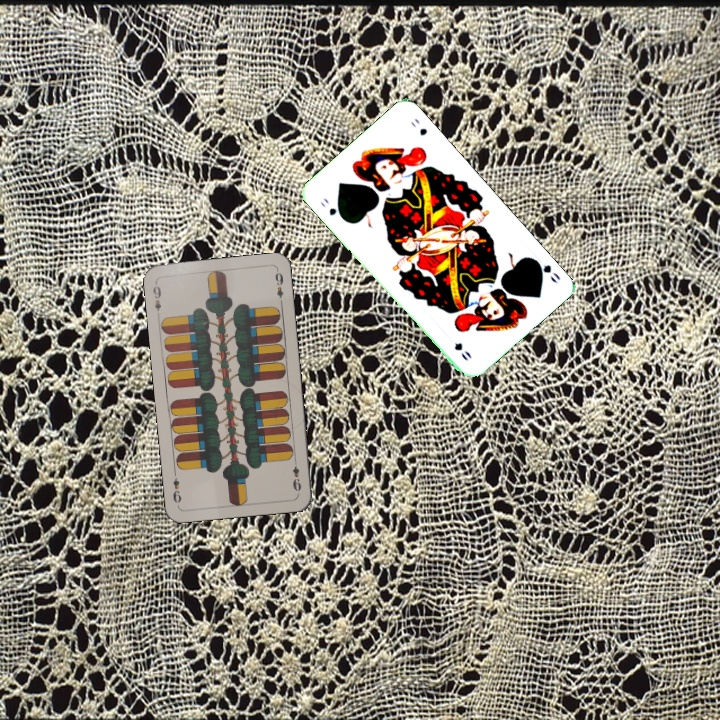E9: (149, 279, 164, 319), (289, 455, 304, 494)
GO: (529, 254, 563, 286), (316, 194, 347, 223)
